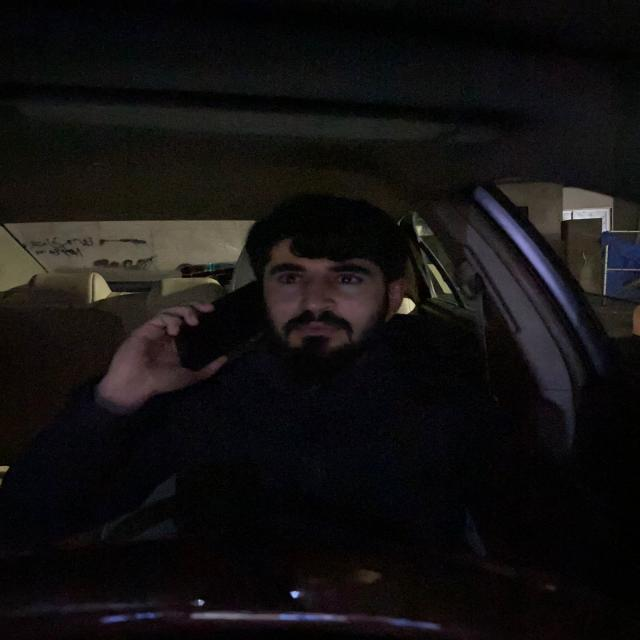mobile: (167, 281, 272, 379)
person: (247, 190, 421, 370)
